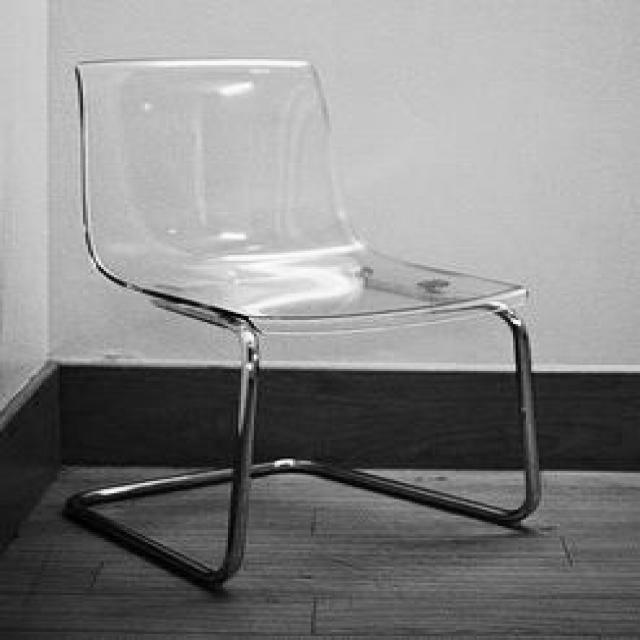chair: (64, 53, 544, 592)
